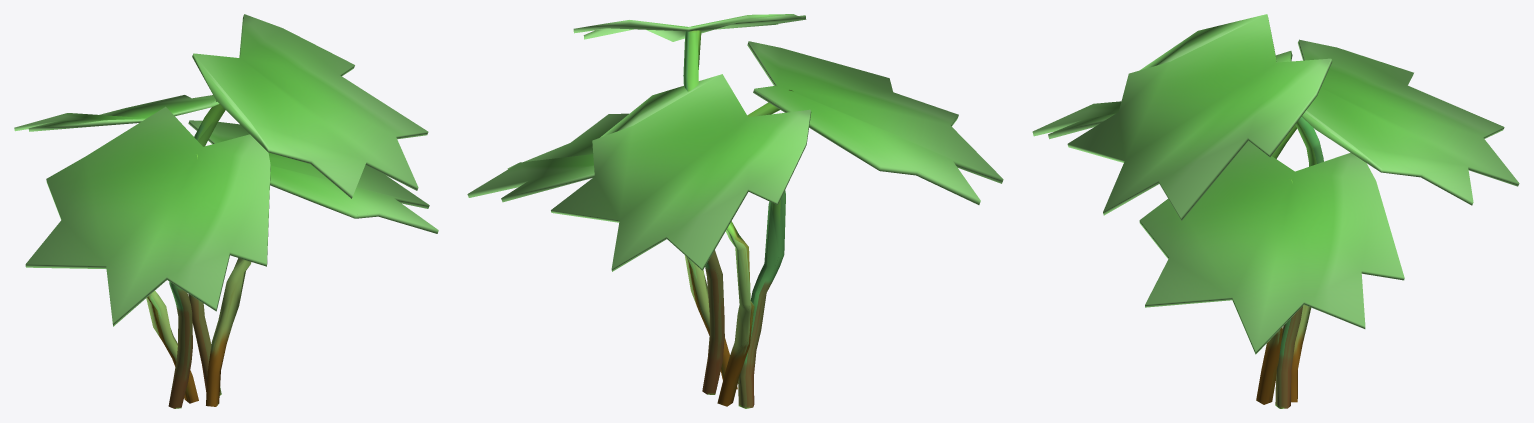
File: strawberry-sprouting.glb
3 renders of one model, left to right at view 1: azimuth 30°, elevation 25°; view 2: azimuth 150°, elevation 25°; view 3: azimuth 270°, elevation 25°, orthographic. The views are drawn at different scales.
Parts seen in each view (by area): view 1: Circle.004; view 2: Circle.004; view 3: Circle.004.
Part boxes in pixels (x1=…): Circle.004: x1=14, y1=14, x2=438, y2=408; Circle.004: x1=467, y1=14, x2=1003, y2=408; Circle.004: x1=1032, y1=14, x2=1519, y2=408.
Size of the model in its own units: 1.03 by 0.8329 by 0.9629.
4 materials, 4 textured.
